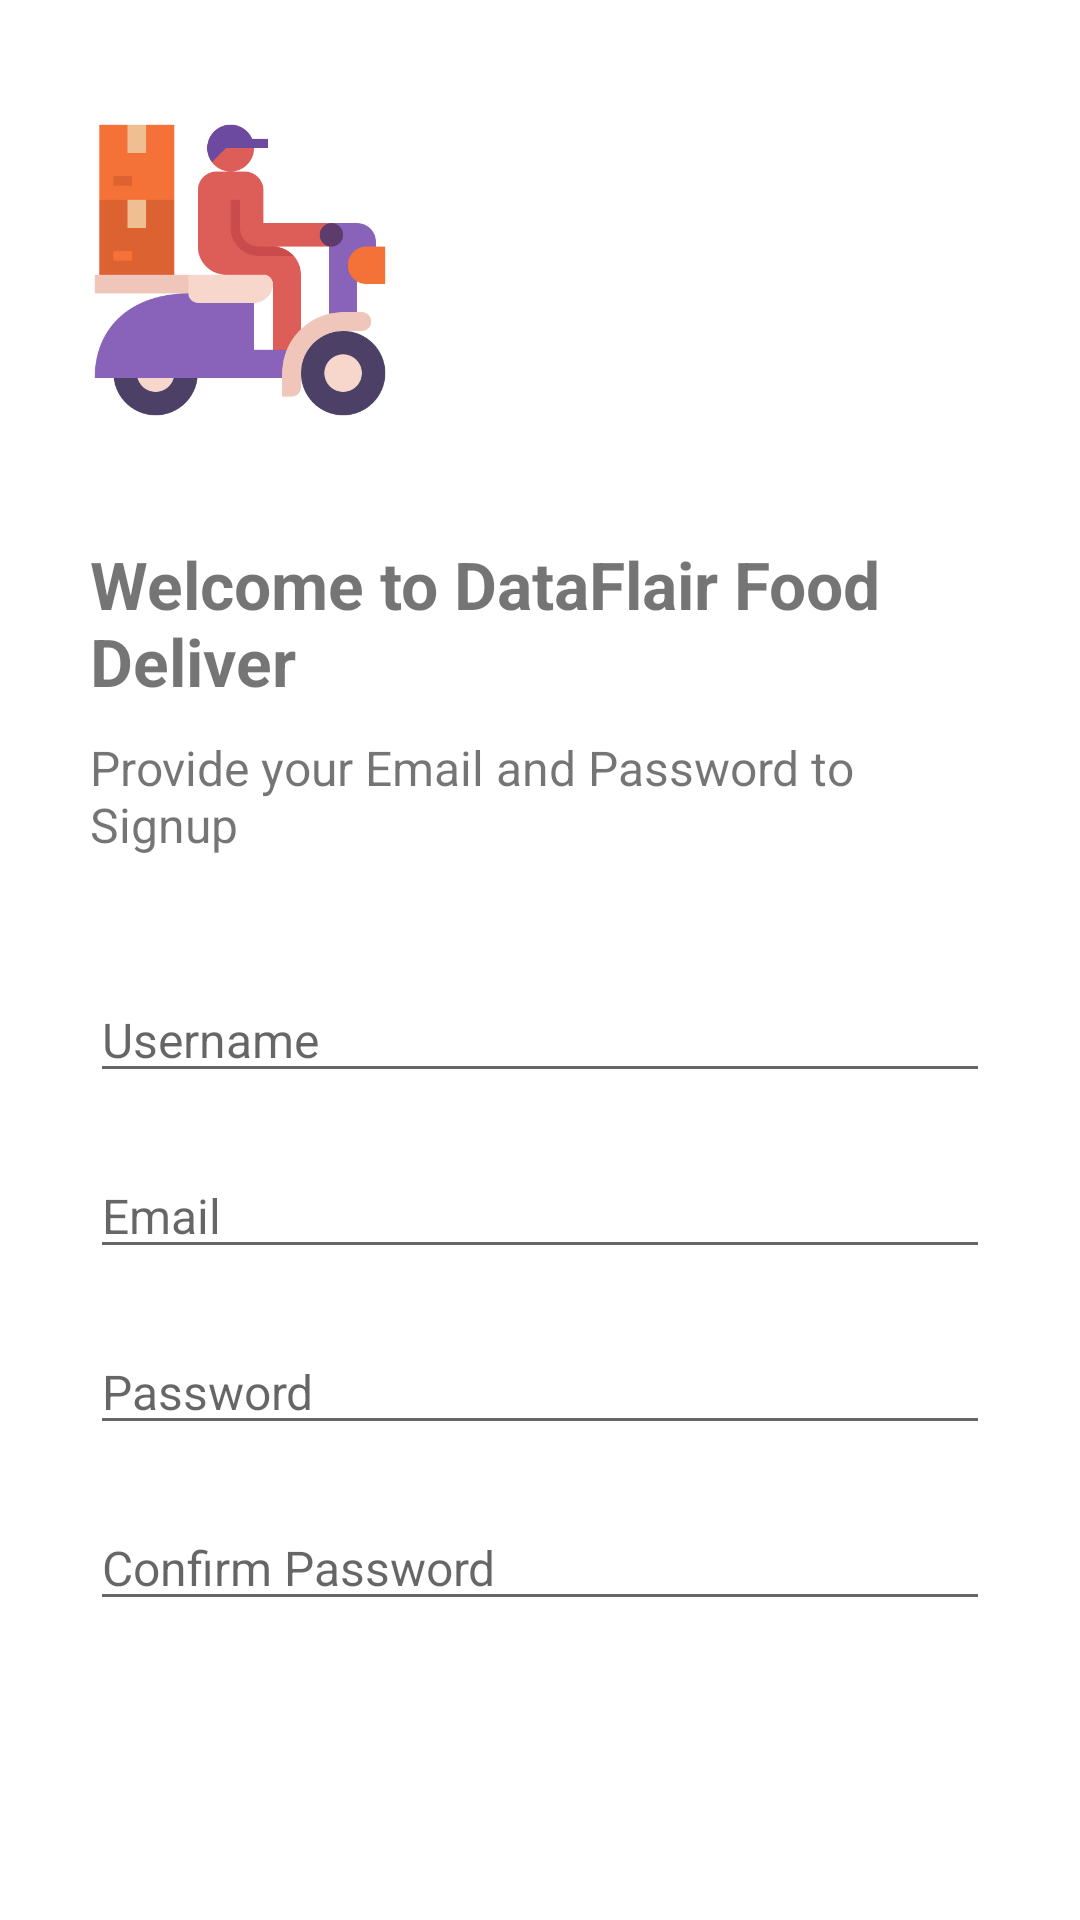

Named icons in this screenshot (1080w x 1920h) and their bounding boxes, [x1, y1, x2, y2]:
delivery: [94, 124, 386, 416]
